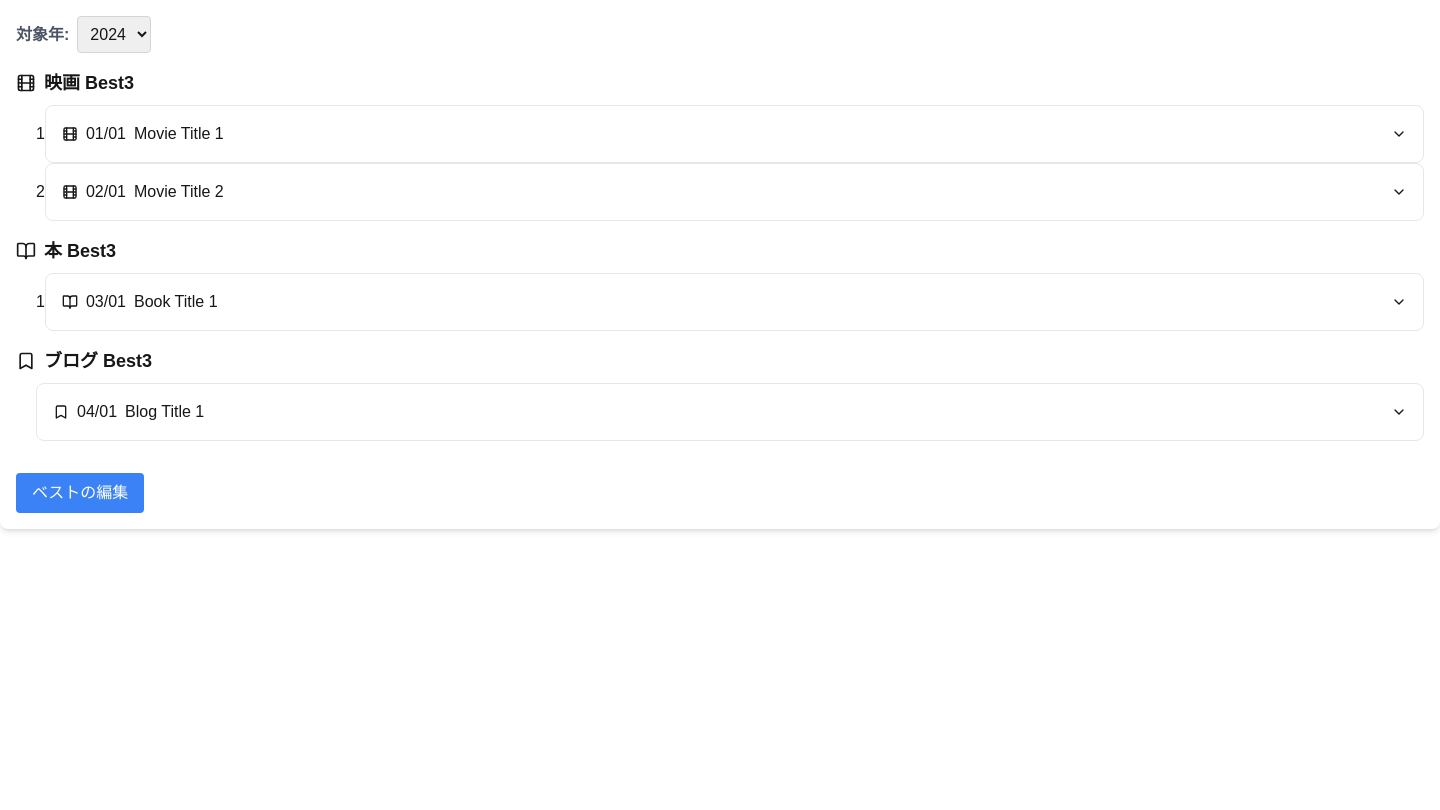
Test: BestContentPage › 編集モード › キャンセルボタンをクリックすると編集モードが終了する
Click the button "ベストの編集" at (80, 493), box [16,473,144,513]
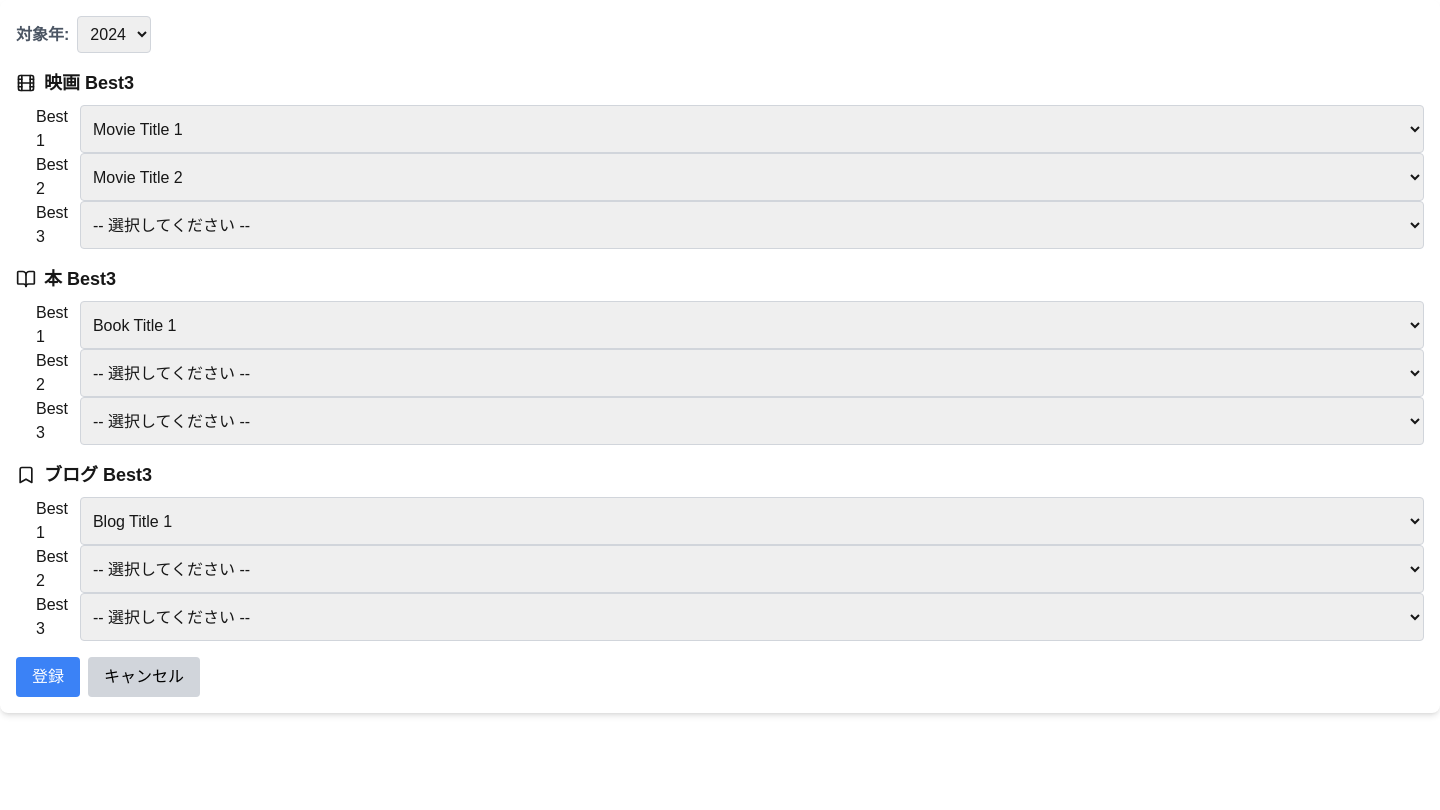
Click the button "キャンセル" at (144, 677), box [88,657,200,697]
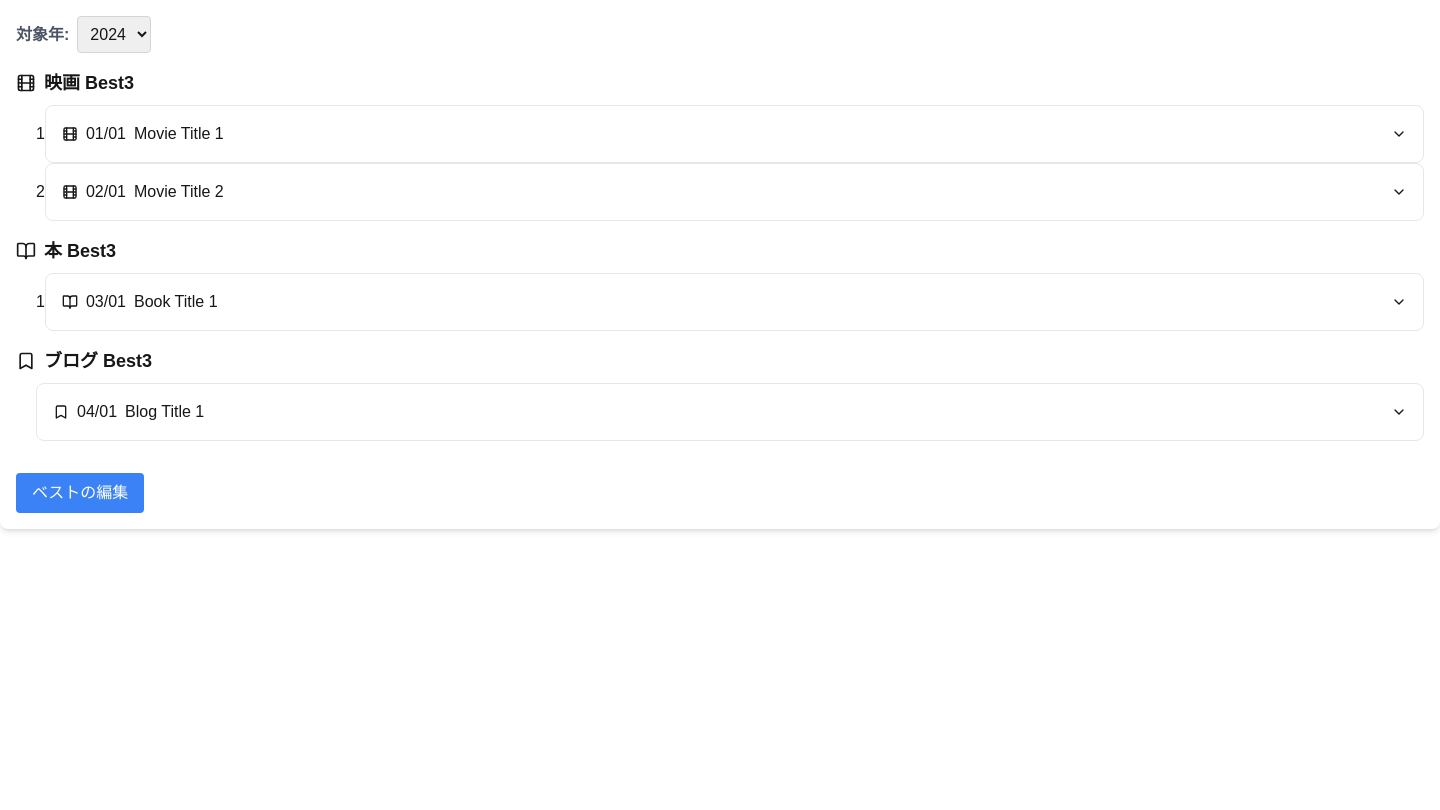
expect the button "ベストの編集" is shown: met, box [16,473,144,513]
expect the button "登録" is gone: met
